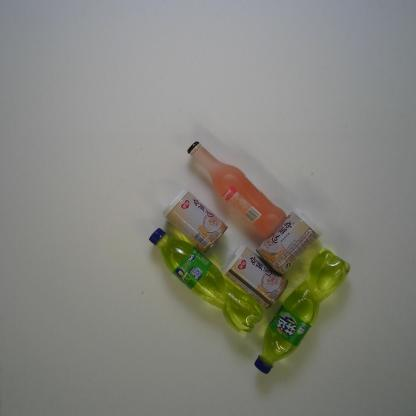Alcohol: (186, 140, 288, 241)
Canned Food: (221, 243, 290, 310), (255, 208, 322, 276), (162, 188, 229, 254)
Drink: (148, 227, 264, 336), (253, 248, 352, 374)
